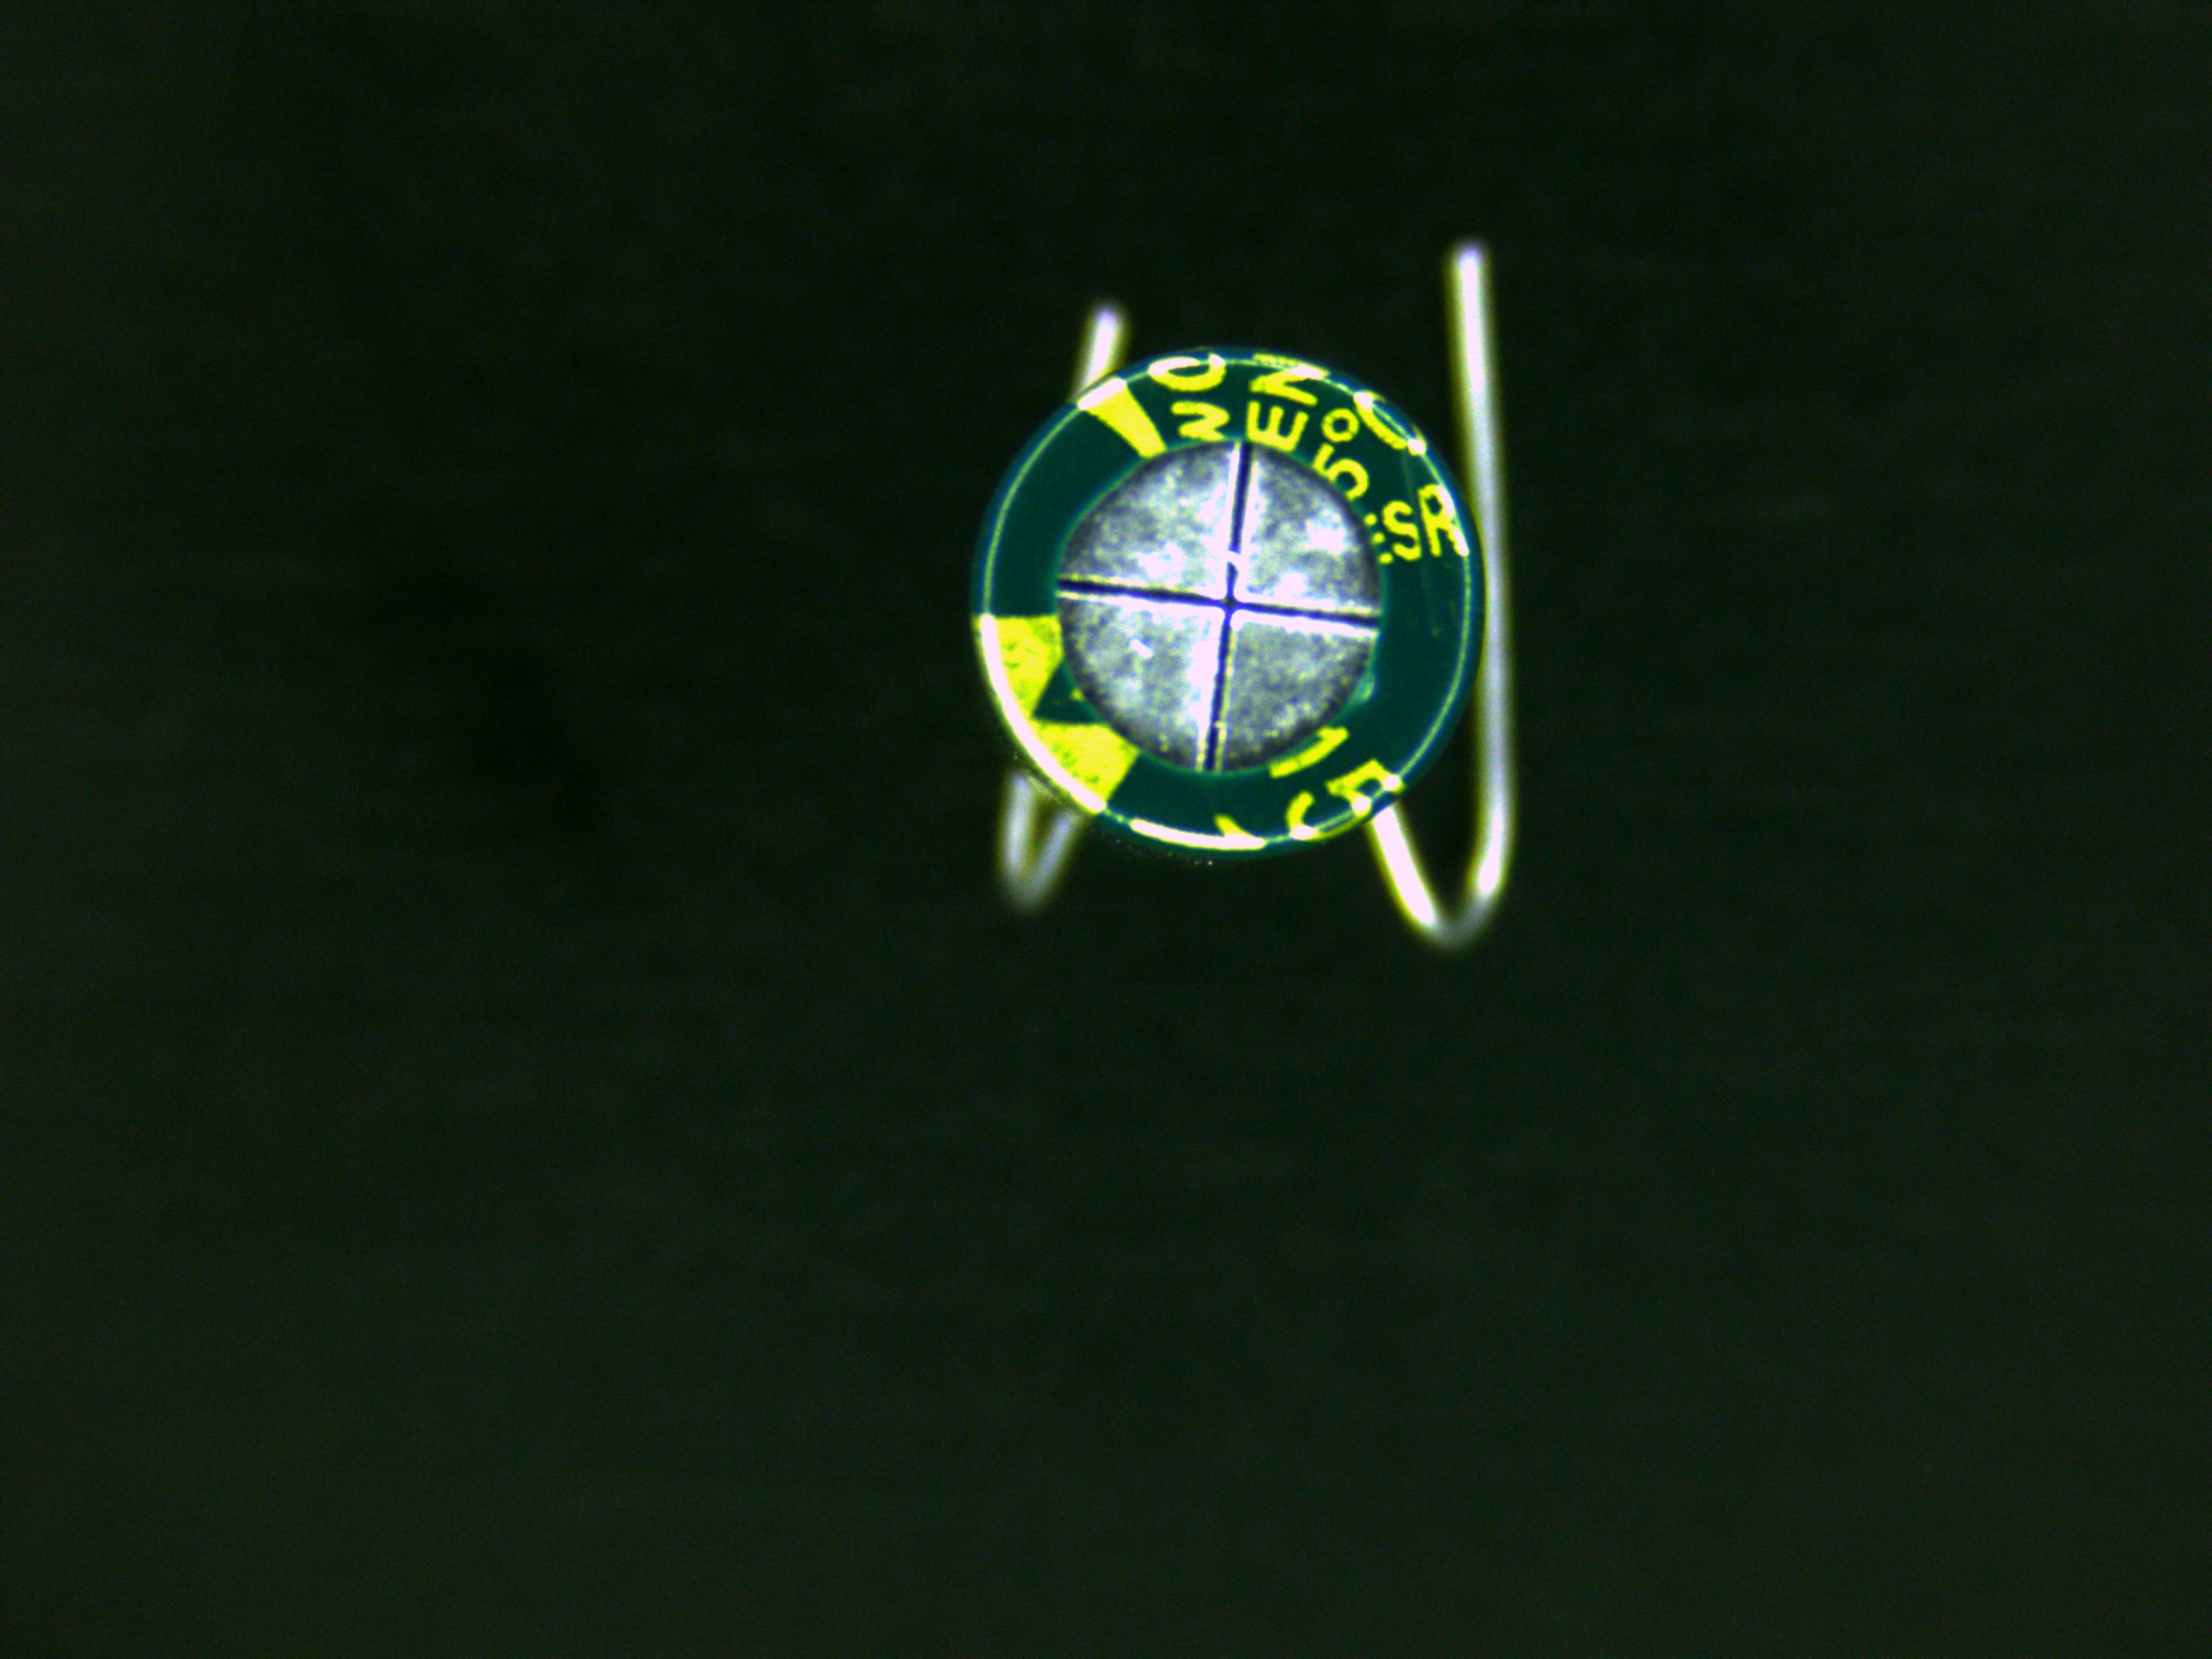c1: (977, 343, 1486, 859)
